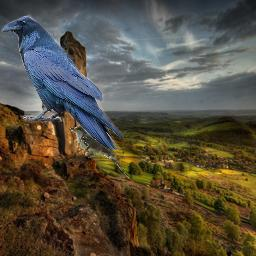Crow: (0, 15, 124, 150)
Cuckoo: (69, 126, 130, 179)
